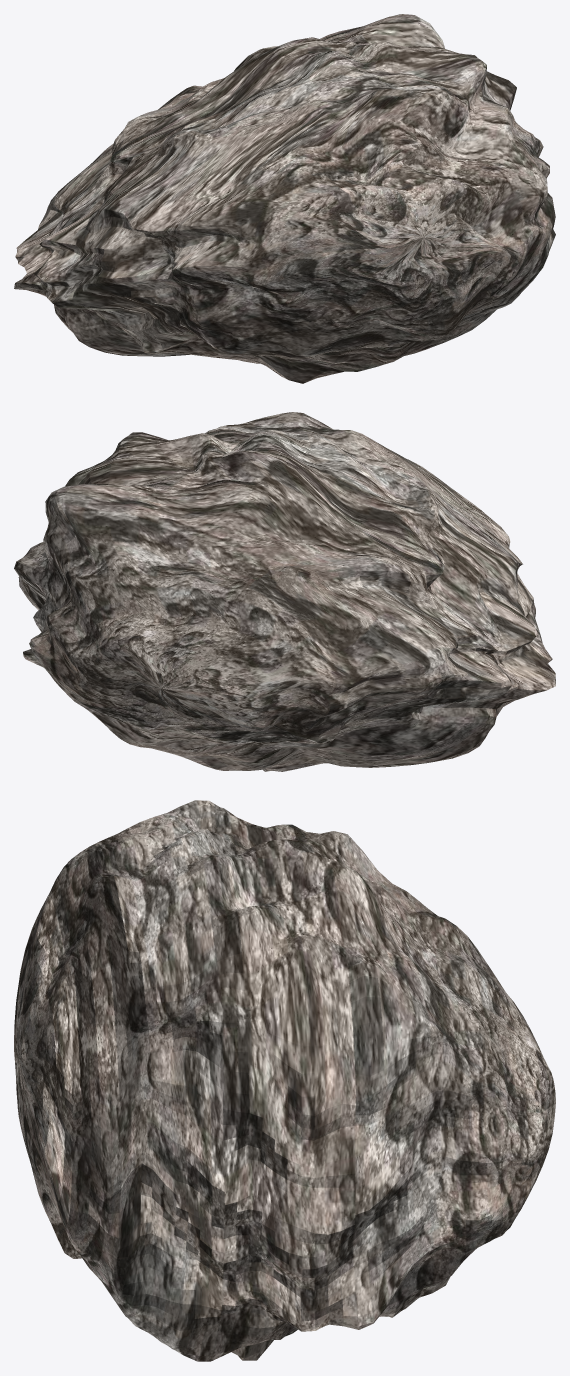
Rendered from Asteroide.glb.
3 renders of one model, top to bottom at view 1: azimuth 30°, elevation 25°; view 2: azimuth 150°, elevation 25°; view 3: azimuth 270°, elevation 25°, orthographic. The views are drawn at different scales.
Visible parts, largest first — view 1: asteroid OBJ; view 2: asteroid OBJ; view 3: asteroid OBJ.
Boxes of the visible parts, x1,y1,x2,y2 form: asteroid OBJ: [14, 14, 555, 383]; asteroid OBJ: [14, 412, 555, 771]; asteroid OBJ: [14, 800, 555, 1361].
Bounding box in the file's own units: 3.91 × 2.32 × 2.47.
Materials: 1 (1 with a texture image).
